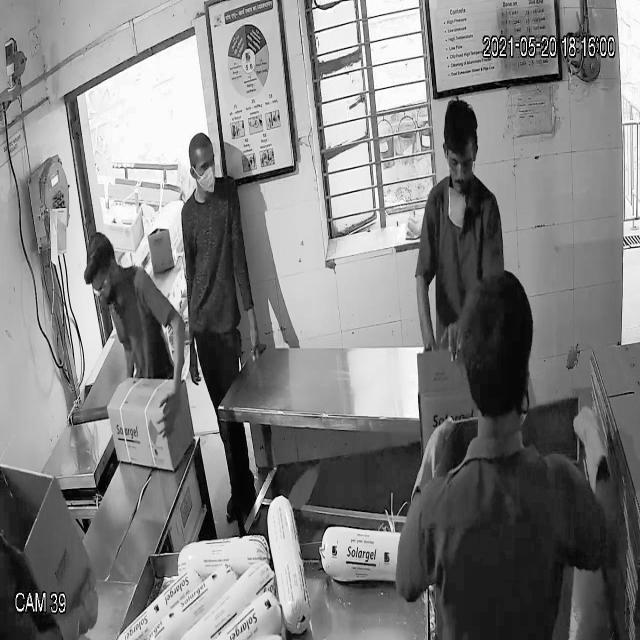glasses: (441, 138, 481, 188)
